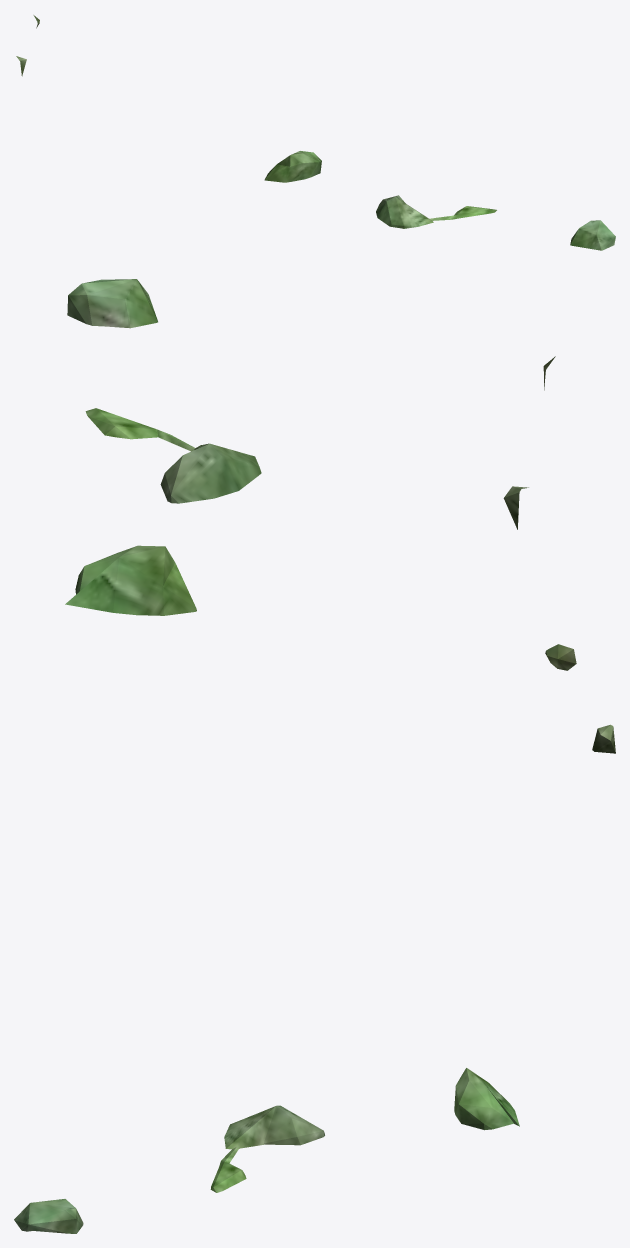
3 views of the same model, one above another, from view 1: azimuth 30°, elevation 25°; view 2: azimuth 150°, elevation 25°; view 3: azimuth 270°, elevation 25° (orthographic). The views are drawn at different scales.
Bounding box in the file's own units: 2.64 × 1.22 × 2.27.
Materials: 1 (1 with a texture image).
